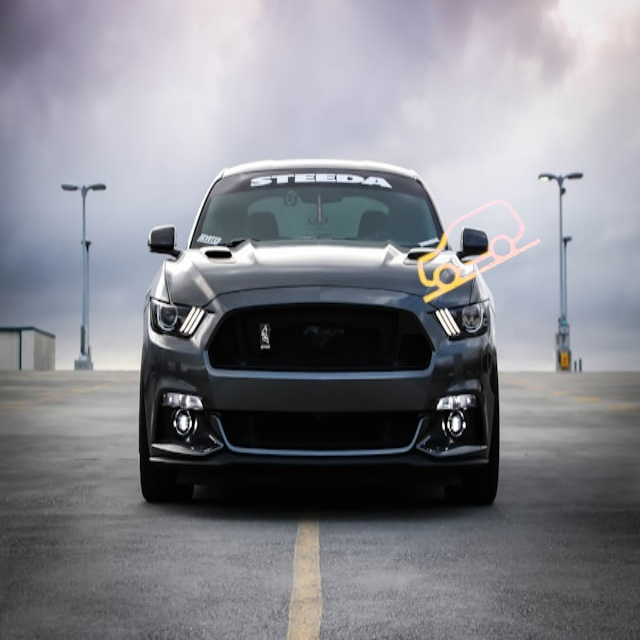symbol: (399, 172, 561, 334)
